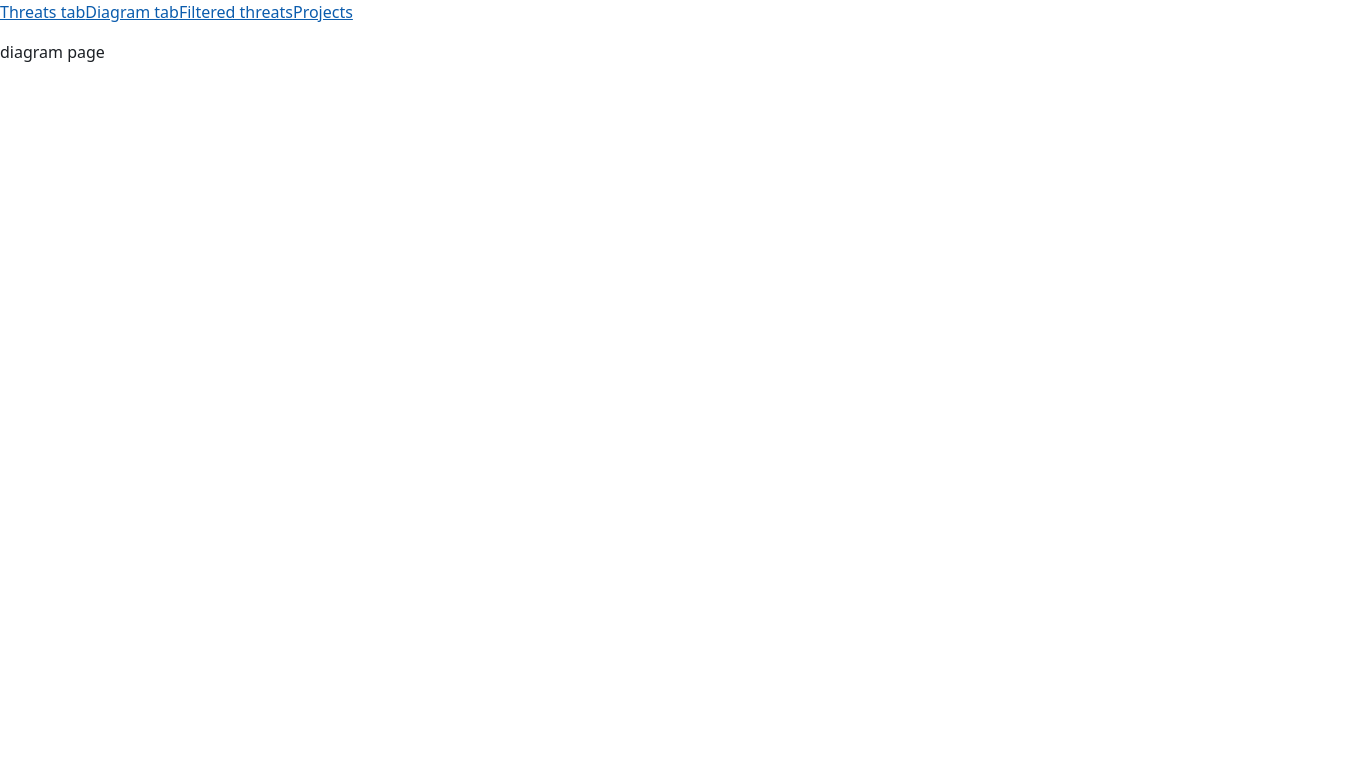
Test: leaving the threat model with unsaved changes › uses the singular for one change
Click the link "Projects".
click(323, 12)  # box left=293, top=1, right=353, bottom=23
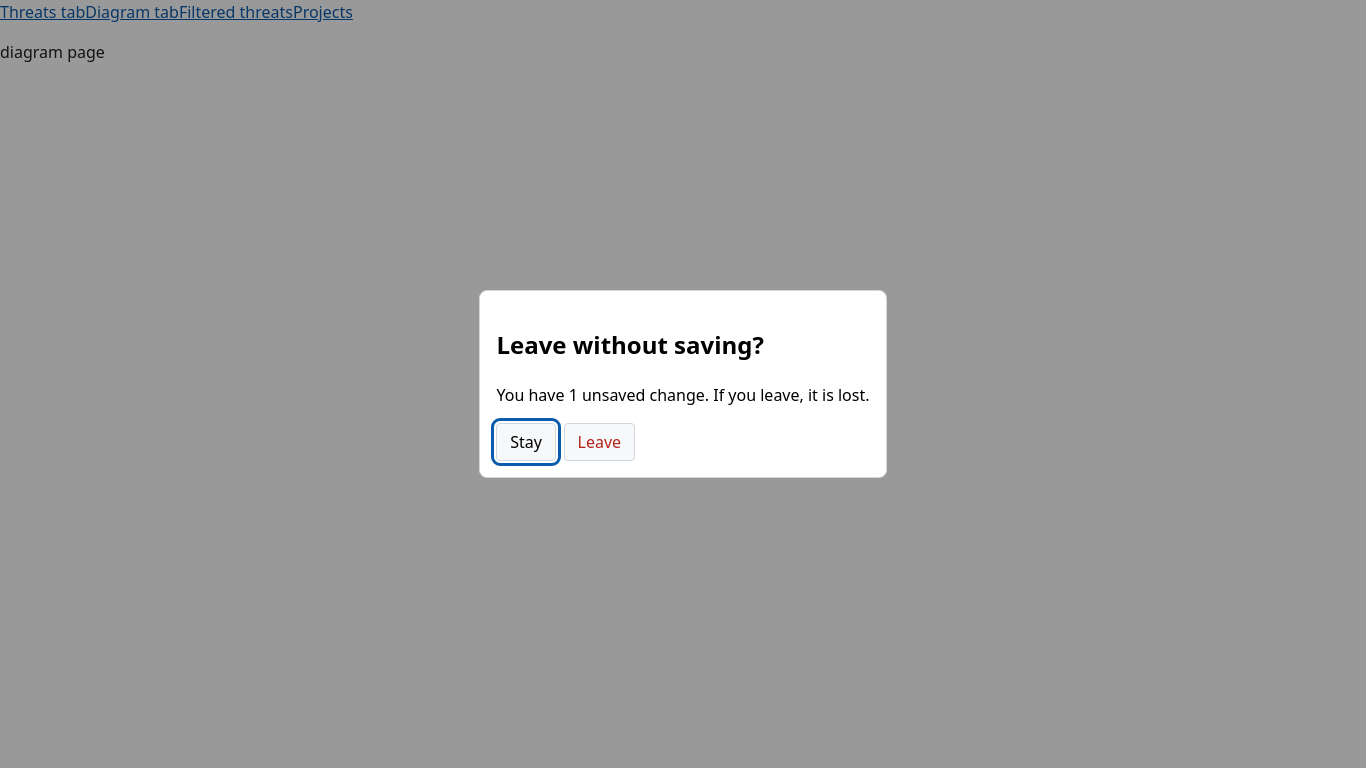
Now the dialog shows "1 unsaved change.", box left=496, top=384, right=870, bottom=406
